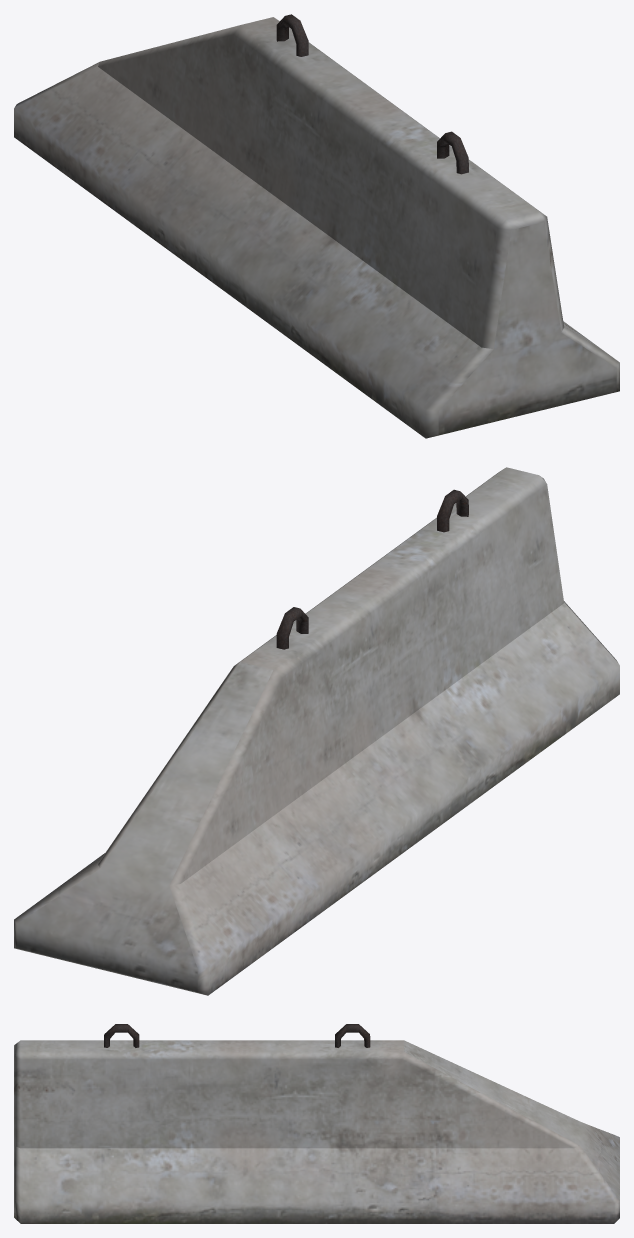
Rendered from ConcreteBarrier_A_B.fbx.
The picture shows the model from 3 angles, top to bottom: view 1: azimuth 30°, elevation 25°; view 2: azimuth 150°, elevation 25°; view 3: azimuth 270°, elevation 25°; orthographic projection. The views are drawn at different scales.
Visible parts, largest first — view 1: ConcreteBarrier_A_B; view 2: ConcreteBarrier_A_B; view 3: ConcreteBarrier_A_B.
Boxes of the visible parts, x1=… form: ConcreteBarrier_A_B: x1=14, y1=14, x2=619, y2=438; ConcreteBarrier_A_B: x1=14, y1=467, x2=619, y2=995; ConcreteBarrier_A_B: x1=14, y1=1024, x2=619, y2=1223.
Bounding box in the file's own units: 80 × 89.84 × 300.
